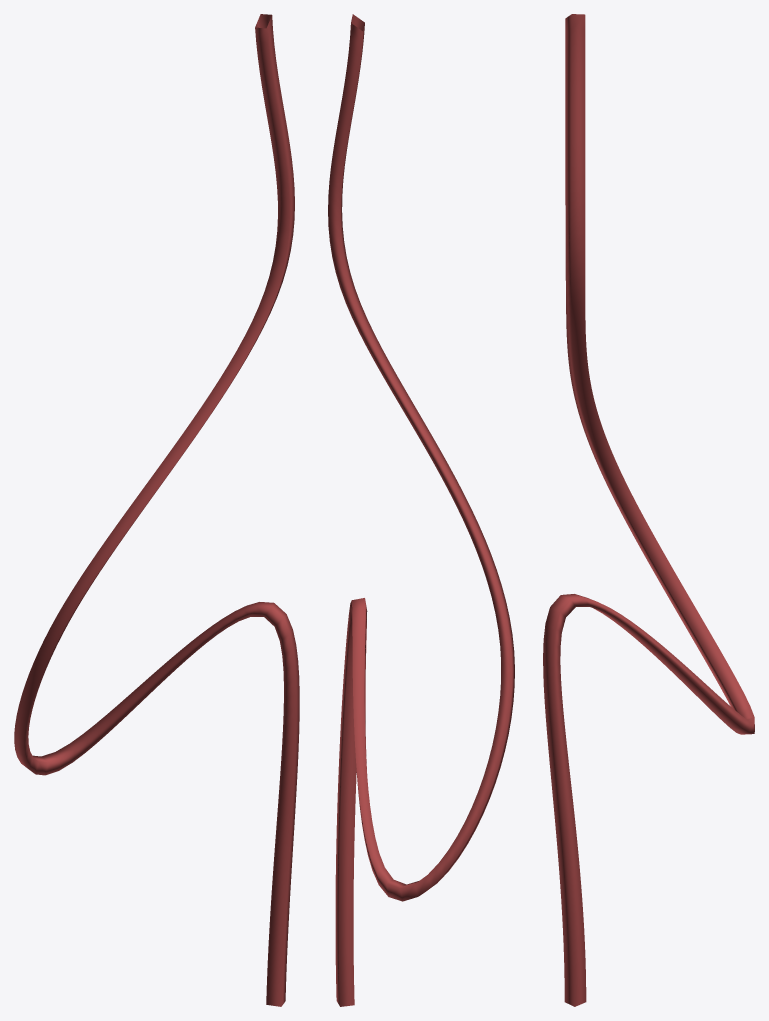
Rendered from wireThreeStraightPrime.fbx.
3 renders of one model, left to right at view 1: azimuth 30°, elevation 25°; view 2: azimuth 150°, elevation 25°; view 3: azimuth 270°, elevation 25°, orthographic.
Visible parts, largest first — view 1: extrudedSurface8; view 2: extrudedSurface8; view 3: extrudedSurface8.
Boxes of the visible parts, <box> form: extrudedSurface8: <box>14,14,299,1006</box>; extrudedSurface8: <box>328,14,514,1006</box>; extrudedSurface8: <box>543,14,754,1006</box>.
Size of the model in its own units: 13.99 by 60.02 by 11.69.
